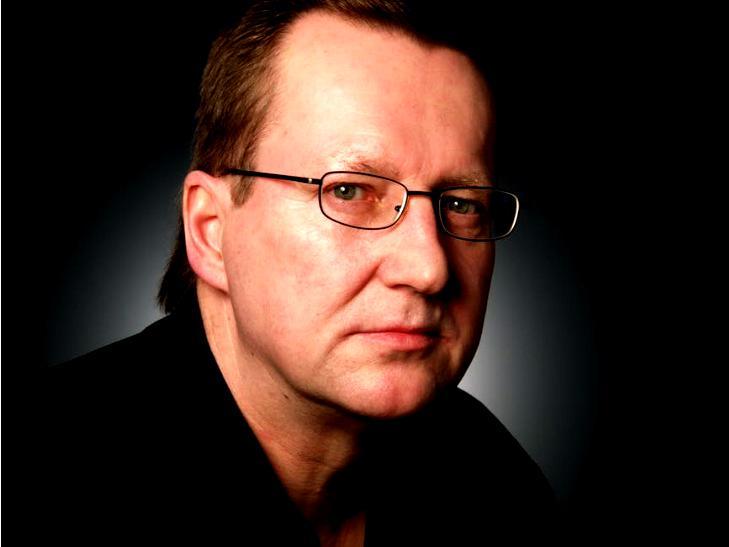face: (262, 20, 496, 415)
